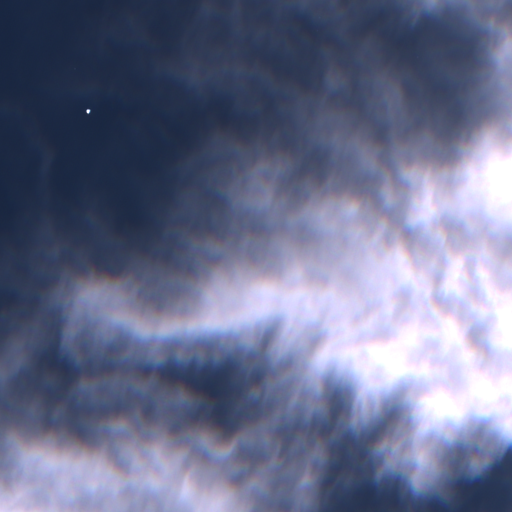Iceberg: (86, 109, 90, 114)
